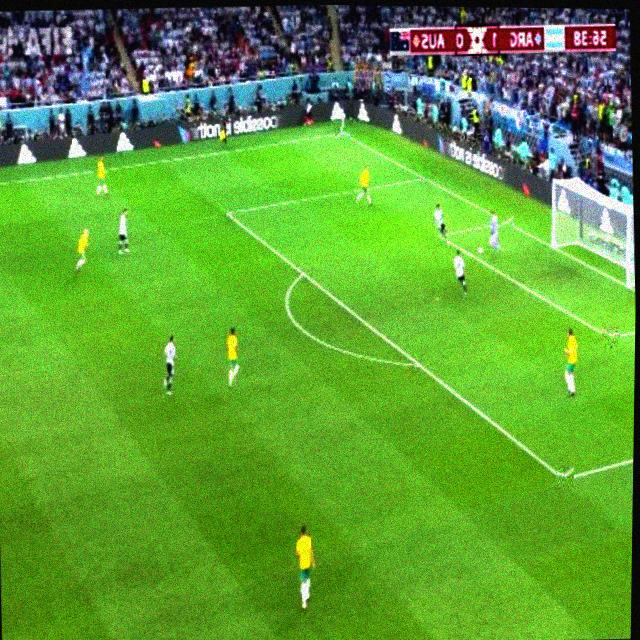bigarea_bottom_inner: (555, 465, 574, 490)
bigarea_top_inner: (220, 203, 236, 221)
bigarea_top_outter: (417, 169, 431, 183)
bottom_arc_area_intersection: (410, 352, 427, 373)
corner: (335, 125, 350, 140)
smallarea_bottom_inner: (601, 323, 620, 349)
smallarea_top_inner: (436, 226, 450, 242)
smallarea_top_outter: (497, 211, 514, 231)
top_arc_area_intersection: (296, 262, 312, 280)
